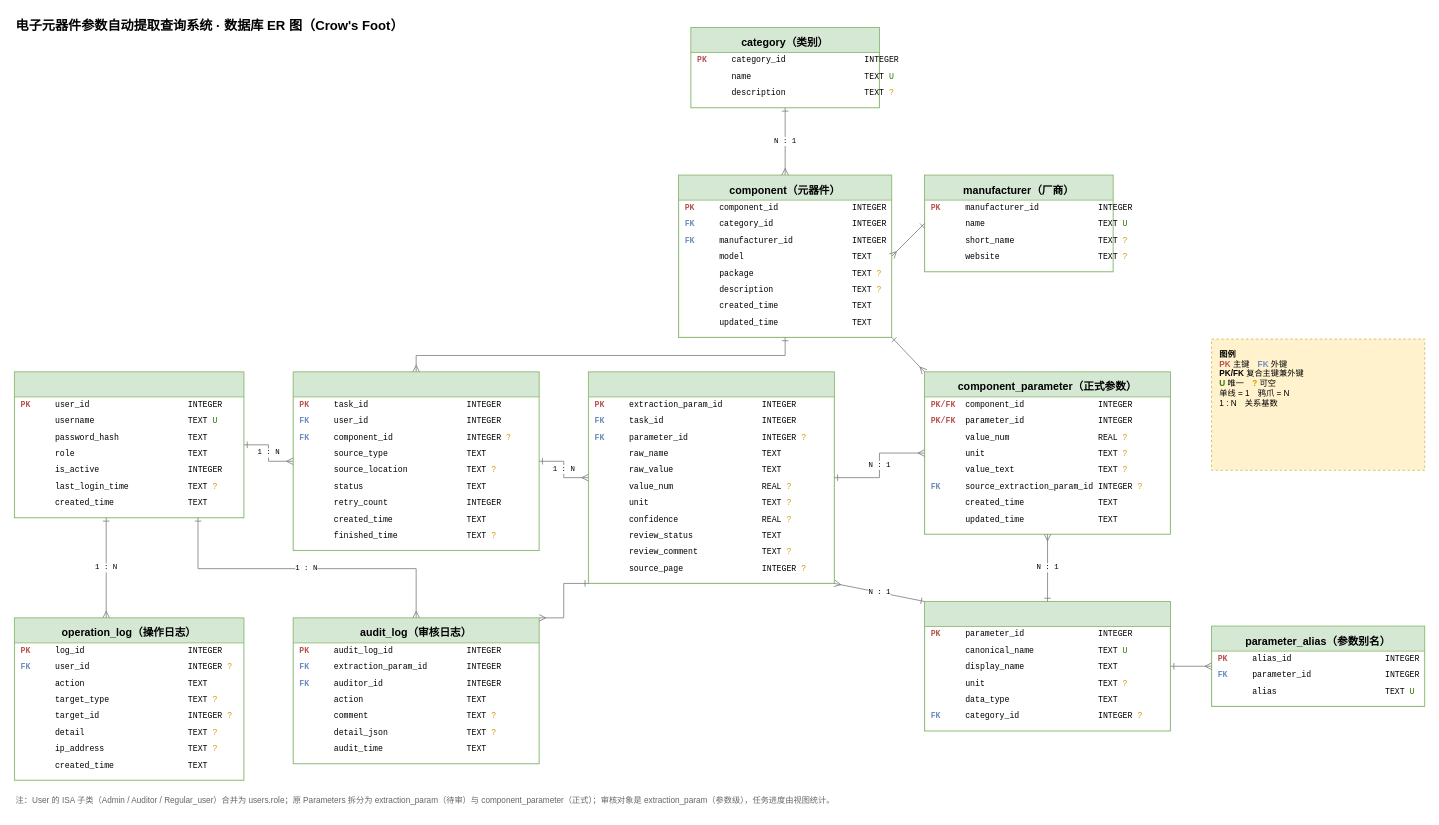
Some shapes in this 1439 by 825 pixel diagram are drawn without their labels. The box of each missing label's shape, as (x1, y1, x2, y2) in pixels:
extraction_param（提取结果）: (588, 371, 834, 583)
extraction_task（提取任务）: (292, 371, 539, 551)
parameter_def（参数定义）: (924, 601, 1171, 731)
users（用户）: (14, 371, 244, 518)
